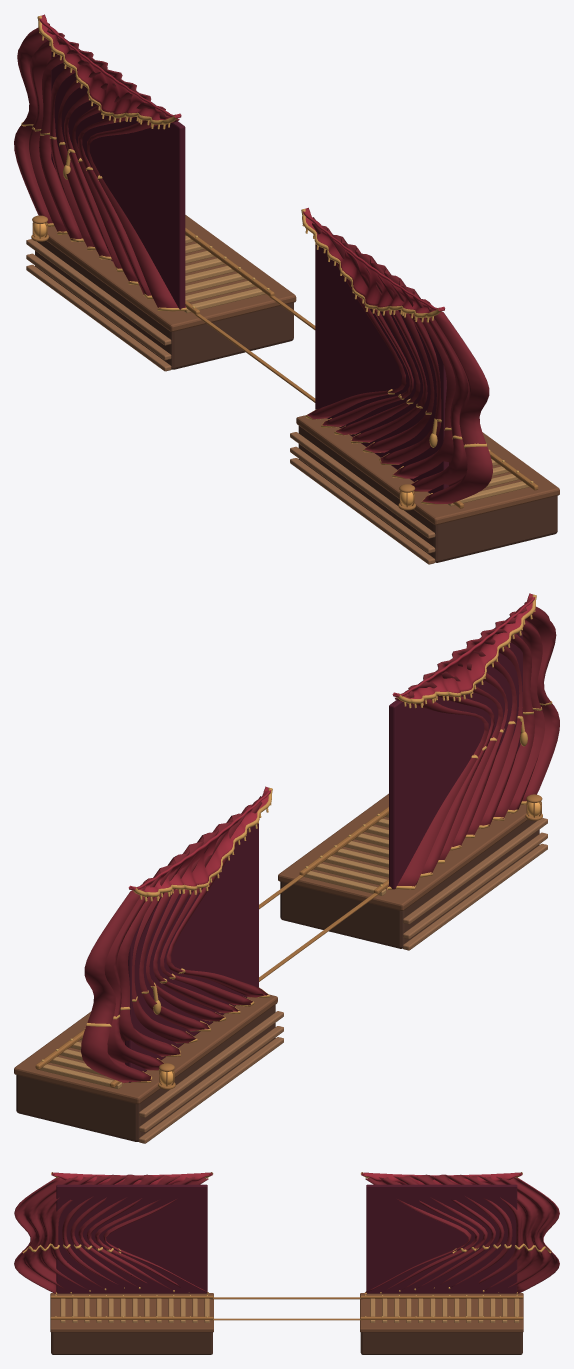
File: SM_Hub_SceneryRails.fbx
3 views of the same model, one above another, from view 1: azimuth 30°, elevation 25°; view 2: azimuth 150°, elevation 25°; view 3: azimuth 270°, elevation 25° (orthographic). The views are drawn at different scales.
Parts seen in each view (by area): view 1: Rail deck.002_Baked; view 2: Rail deck.002_Baked; view 3: Rail deck.002_Baked.
Boxes of the visible parts, left/top/right/bottom form: Rail deck.002_Baked: left=14, top=14, right=559, bottom=564; Rail deck.002_Baked: left=14, top=593, right=559, bottom=1143; Rail deck.002_Baked: left=14, top=1172, right=559, bottom=1354.
Size of the model in its own units: 162 by 910 by 275.
